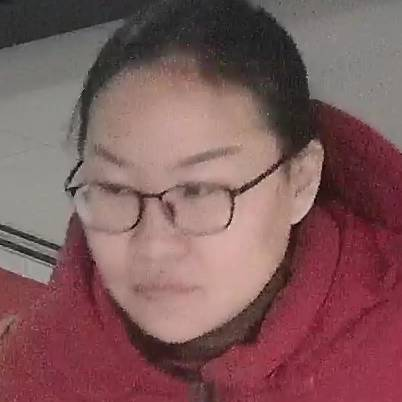xl: (49, 16, 357, 352)
